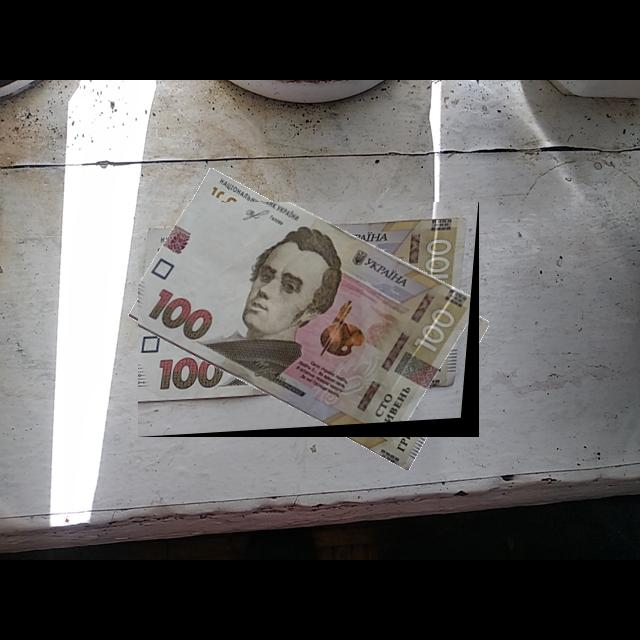100uah: (138, 202, 480, 438)
